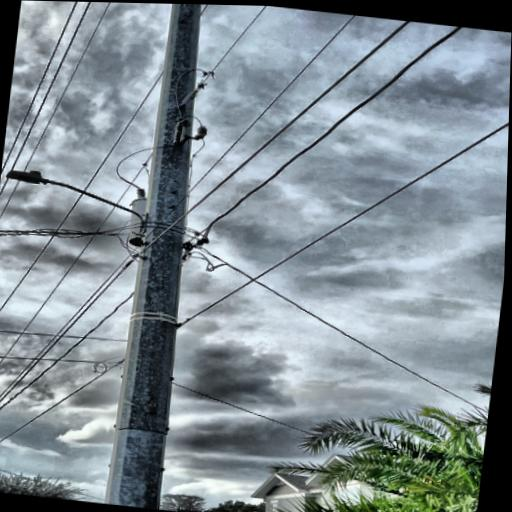pole: (81, 2, 237, 512)
street light: (0, 157, 164, 231)
